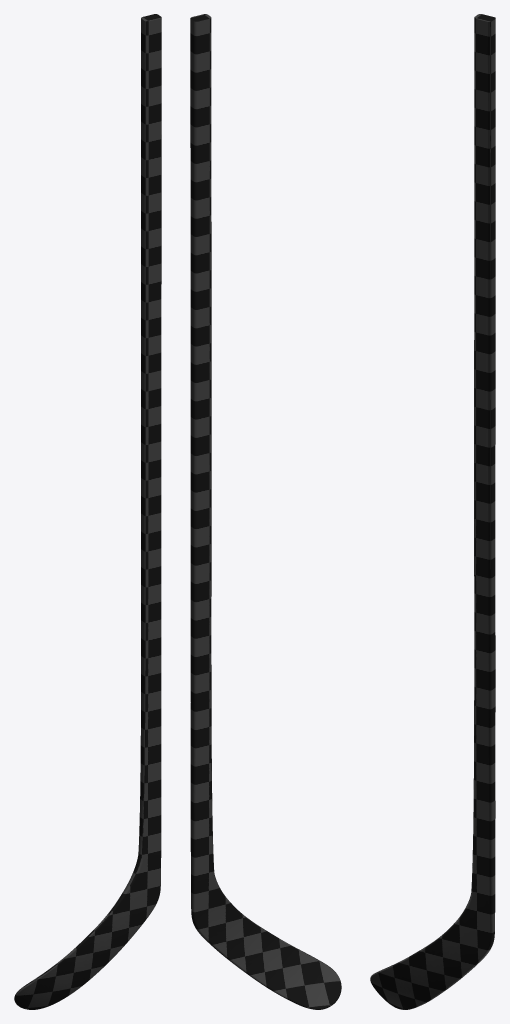
File: P25-1-4-ST-LIE6_0.glb
The picture shows the model from 3 angles, left to right: view 1: azimuth 30°, elevation 25°; view 2: azimuth 210°, elevation 25°; view 3: azimuth 330°, elevation 25°; orthographic projection. The views are drawn at different scales.
Parts seen in each view (by area): view 1: geometry_0; view 2: geometry_0; view 3: geometry_0.
Boxes of the visible parts, x1,y1,x2,y2 form: geometry_0: [14, 14, 161, 1009]; geometry_0: [190, 14, 341, 1009]; geometry_0: [370, 14, 495, 1009].
Size of the model in its own units: 231 by 1650 by 64.7.
1 material, 1 textured.
